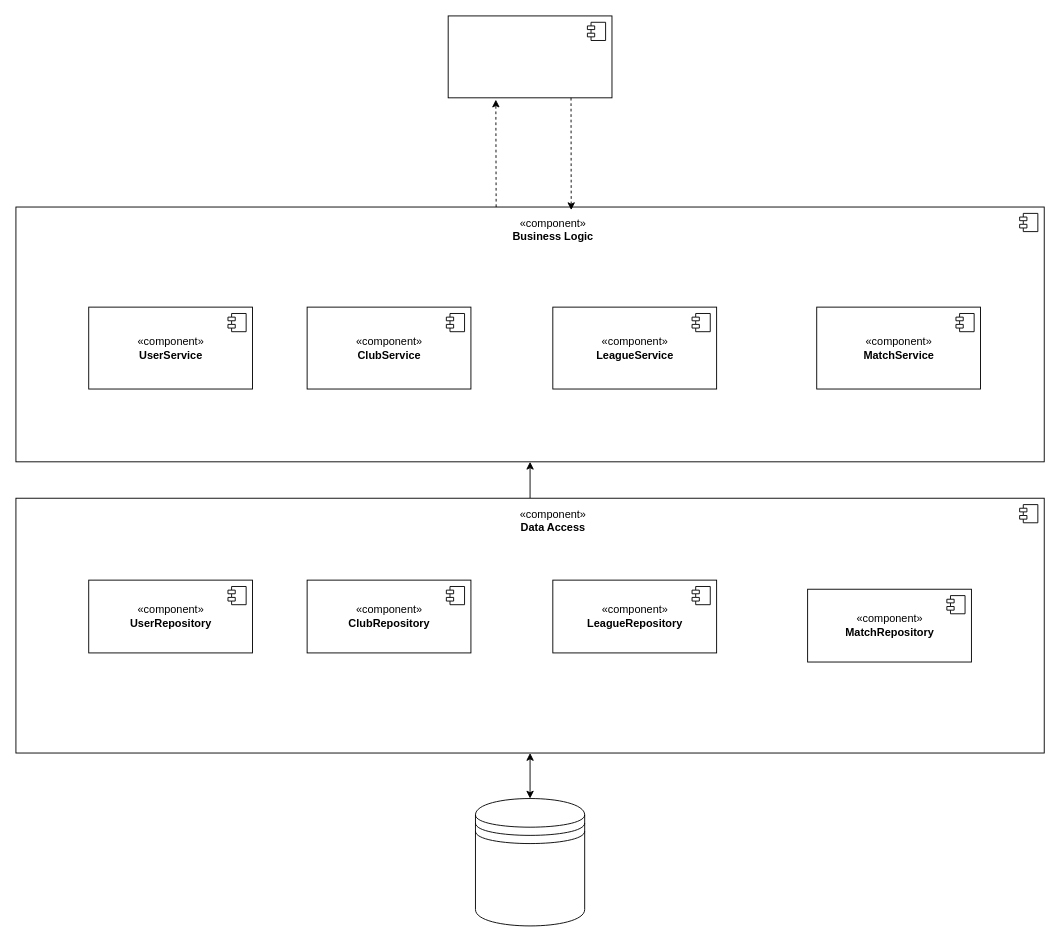
Image size: 1060x942. Some labels were removed from this diagram. Each missing label, with the centre of its shape:
"DataBase" belongs at (530,862).
"«component» User Interface" belongs at (529,56).
